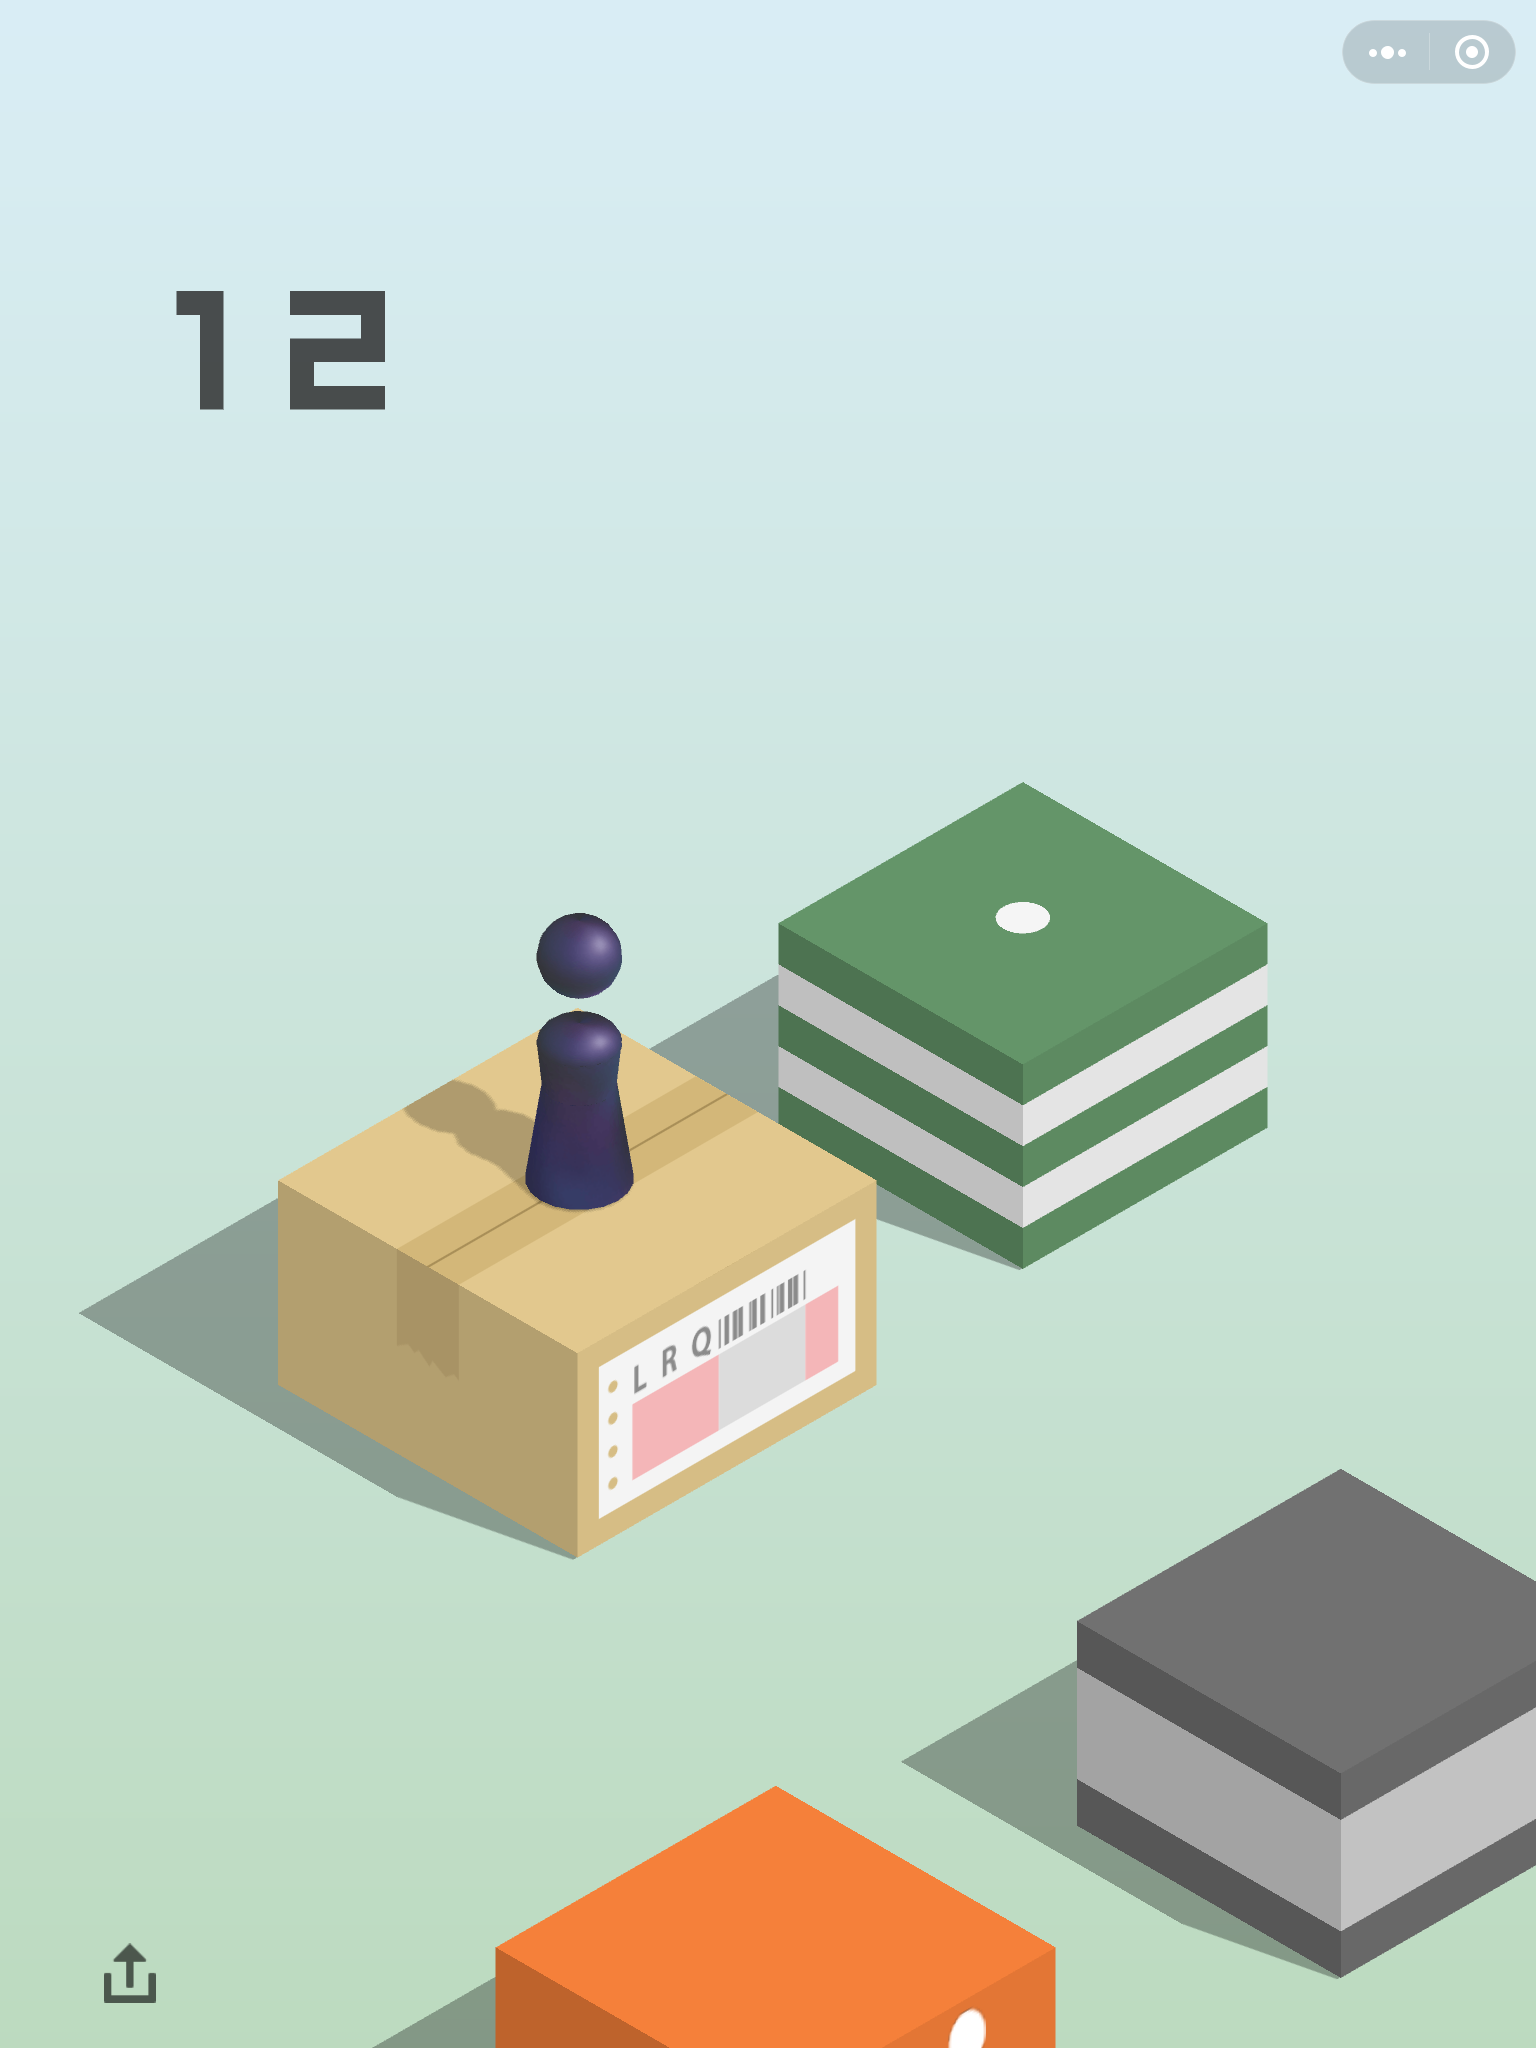f: (278, 1006, 886, 1564), (774, 772, 1275, 1277), (1075, 1466, 1536, 1983), (490, 1787, 1058, 2048)
r: (521, 905, 636, 1209)
